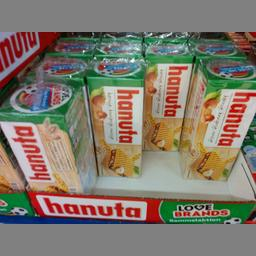chocolate: (0, 84, 96, 196), (178, 56, 255, 181), (86, 58, 140, 180), (140, 42, 188, 153)
